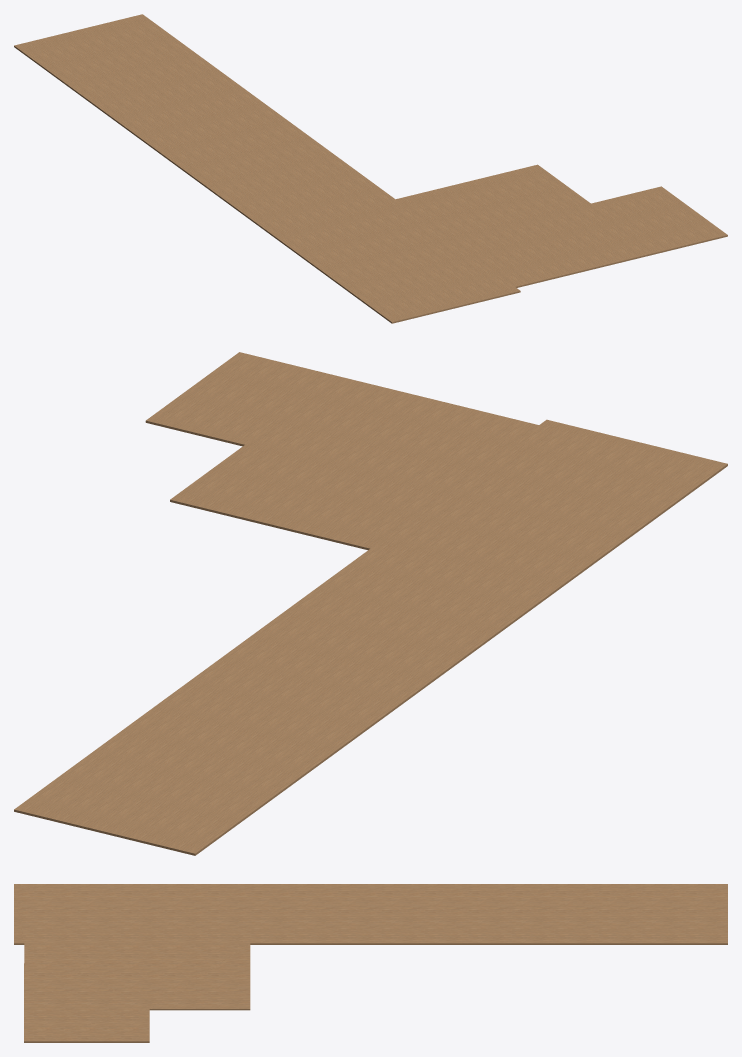
Rendered from floor.glb.
3 views of the same model, one above another, from view 1: azimuth 30°, elevation 25°; view 2: azimuth 150°, elevation 25°; view 3: azimuth 270°, elevation 25° (orthographic). The views are drawn at different scales.
Parts seen in each view (by area): view 1: floor.003; view 2: floor.003; view 3: floor.003.
Boxes of the visible parts, <box> form: floor.003: <box>14,14,727,323</box>; floor.003: <box>14,352,727,855</box>; floor.003: <box>14,884,727,1042</box>.
Size of the model in its own units: 59 by 0.254 by 113.
1 material, 1 textured.
